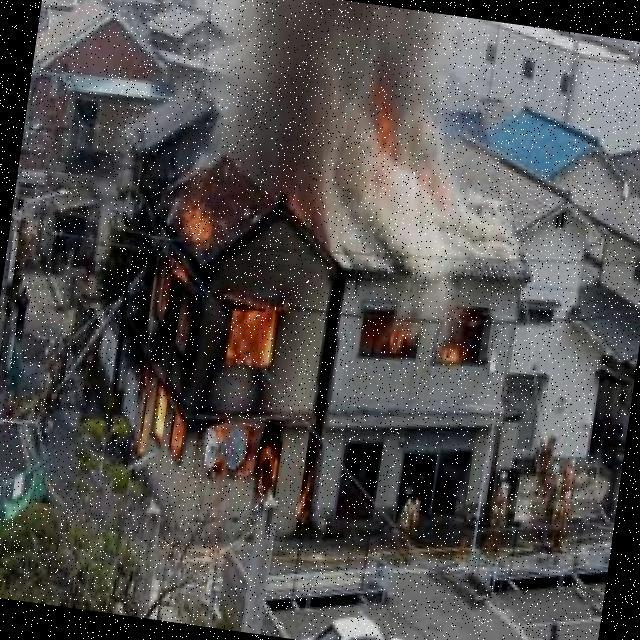Fire: (123, 194, 323, 500), (367, 321, 479, 369)
